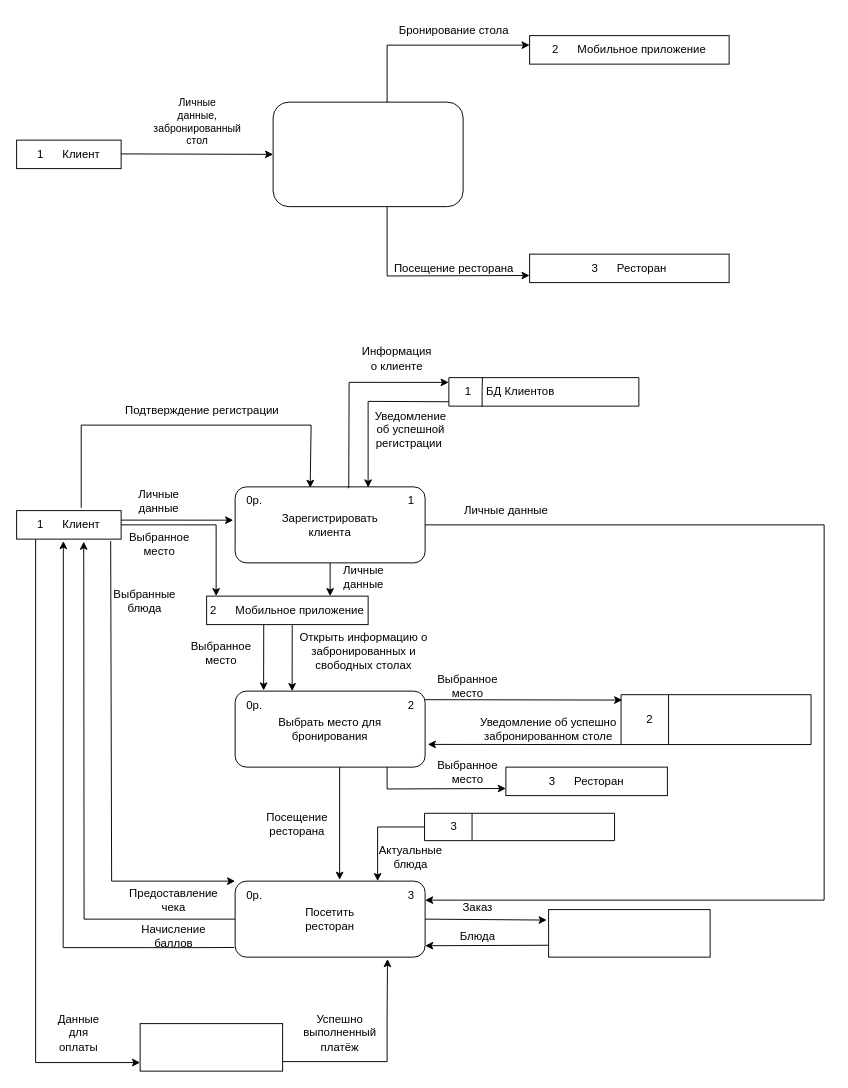
Some shapes in this 848 by 1088 pixel diagram are drawn without their labels. The centre of each missing label's shape, as x and y in pixels:
4 Официант: (629,933)
5 Платёжная система: (211,1047)
БД Блюд: (519,826)
БД Бронирования: (715,719)
Система бронирования заказов онлайн: (367,154)
